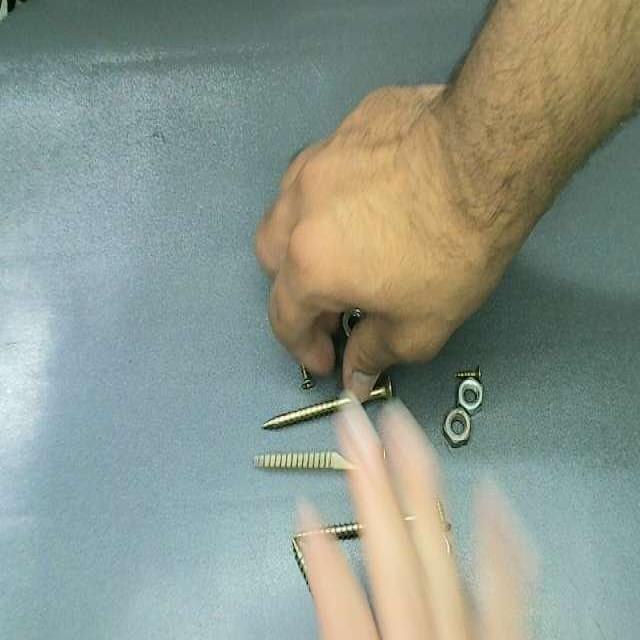Parafuso: (262, 398, 349, 429), (254, 451, 353, 470), (294, 523, 363, 541), (300, 366, 314, 390), (456, 366, 481, 379)
Porca: (443, 407, 470, 447), (458, 378, 483, 414), (342, 308, 362, 337)
